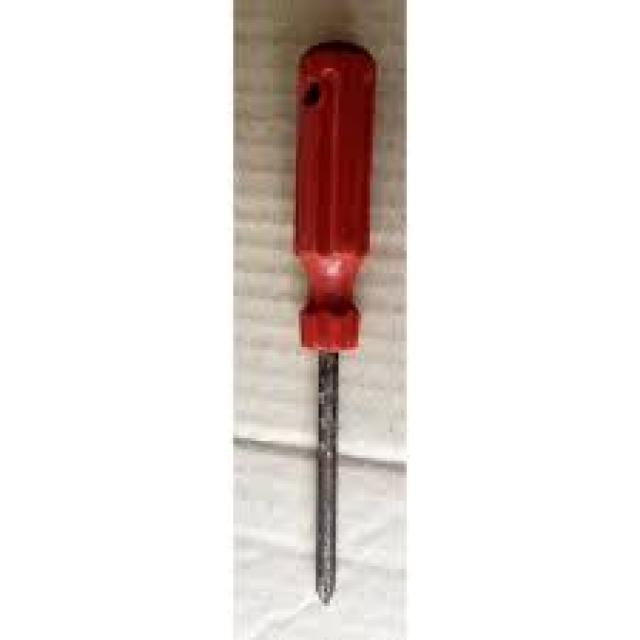screwdriver: (291, 37, 377, 603)
